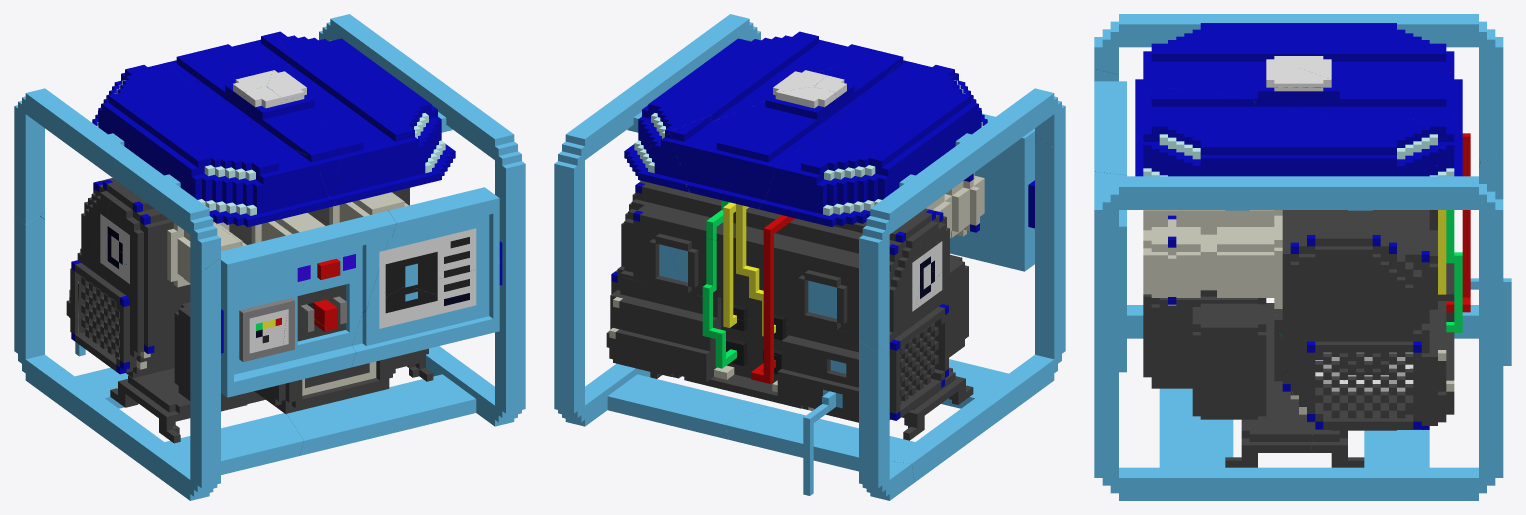
The model's file is Generator.fbx.
3 renders of one model, left to right at view 1: azimuth 30°, elevation 25°; view 2: azimuth 150°, elevation 25°; view 3: azimuth 270°, elevation 25°, orthographic. The views are drawn at different scales.
Parts seen in each view (by area): view 1: Untitled.762_cell.002, Untitled.763_cell.003, Untitled.762_cell.006, Untitled.762_cell.009, Untitled.767_cell, Untitled.763_cell.002, Untitled.762_cell.012, Untitled.762_cell.003, Untitled.763_cell.001, Untitled.762_cell.004, Untitled.767_cell.006, Untitled.773_cell.002 (+15 smaller); view 2: Untitled.762_cell.002, Untitled.767_cell.001, Untitled.762_cell.006, Untitled.763_cell.003, Untitled.767_cell.003, Untitled.763_cell.001, Untitled.762_cell.003, Untitled.763_cell.002, Untitled.767_cell, Untitled.762_cell.009, Untitled.762_cell.004, Untitled.782_cell.002 (+10 smaller); view 3: Untitled.762_cell.002, Untitled.767_cell.001, Untitled.763_cell.002, Untitled.763_cell.003, Untitled.763_cell.001, Untitled.762_cell.003, Untitled.770_cell.008, Untitled.767_cell.005, Untitled.767_cell.003, Untitled.767_cell, Untitled.767_cell.006, Untitled.767_cell.002 (+15 smaller).
Part boxes in pixels (x1=…): Untitled.762_cell.002: x1=286, y1=14, x2=525, y2=455; Untitled.763_cell.003: x1=92, y1=64, x2=334, y2=227; Untitled.762_cell.006: x1=47, y1=258, x2=303, y2=500; Untitled.762_cell.009: x1=221, y1=211, x2=396, y2=397; Untitled.767_cell: x1=74, y1=193, x2=433, y2=443; Untitled.763_cell.002: x1=276, y1=31, x2=455, y2=205; Untitled.762_cell.012: x1=351, y1=187, x2=499, y2=367; Untitled.762_cell.003: x1=14, y1=88, x2=220, y2=271; Untitled.763_cell.001: x1=162, y1=32, x2=339, y2=204; Untitled.762_cell.004: x1=14, y1=216, x2=63, y2=398; Untitled.767_cell.006: x1=254, y1=356, x2=395, y2=413; Untitled.773_cell.002: x1=379, y1=228, x2=476, y2=293; Untitled.762_cell.002: x1=554, y1=14, x2=767, y2=439; Untitled.767_cell.001: x1=615, y1=180, x2=923, y2=357; Untitled.762_cell.006: x1=725, y1=134, x2=1065, y2=482; Untitled.763_cell.003: x1=759, y1=59, x2=987, y2=227; Untitled.767_cell.003: x1=606, y1=277, x2=899, y2=422; Untitled.763_cell.001: x1=669, y1=50, x2=904, y2=209; Untitled.762_cell.003: x1=859, y1=88, x2=1065, y2=352; Untitled.763_cell.002: x1=624, y1=31, x2=875, y2=161; Untitled.767_cell: x1=890, y1=208, x2=973, y2=440; Untitled.762_cell.009: x1=950, y1=113, x2=1034, y2=271; Untitled.762_cell.004: x1=859, y1=341, x2=914, y2=500; Untitled.782_cell.002: x1=751, y1=215, x2=794, y2=383; Untitled.762_cell.002: x1=1094, y1=176, x2=1503, y2=500; Untitled.767_cell.001: x1=1274, y1=210, x2=1437, y2=402; Untitled.763_cell.002: x1=1135, y1=86, x2=1446, y2=176; Untitled.763_cell.003: x1=1135, y1=23, x2=1462, y2=124; Untitled.763_cell.001: x1=1135, y1=63, x2=1462, y2=157; Untitled.762_cell.003: x1=1094, y1=14, x2=1503, y2=160; Untitled.770_cell.008: x1=1143, y1=215, x2=1282, y2=308; Untitled.767_cell.005: x1=1192, y1=303, x2=1266, y2=419; Untitled.767_cell.003: x1=1374, y1=230, x2=1454, y2=430; Untitled.767_cell: x1=1225, y1=303, x2=1319, y2=467; Untitled.767_cell.006: x1=1143, y1=290, x2=1266, y2=388; Untitled.767_cell.002: x1=1299, y1=372, x2=1385, y2=467.
Size of the model in its own units: 750 by 698 by 765.
